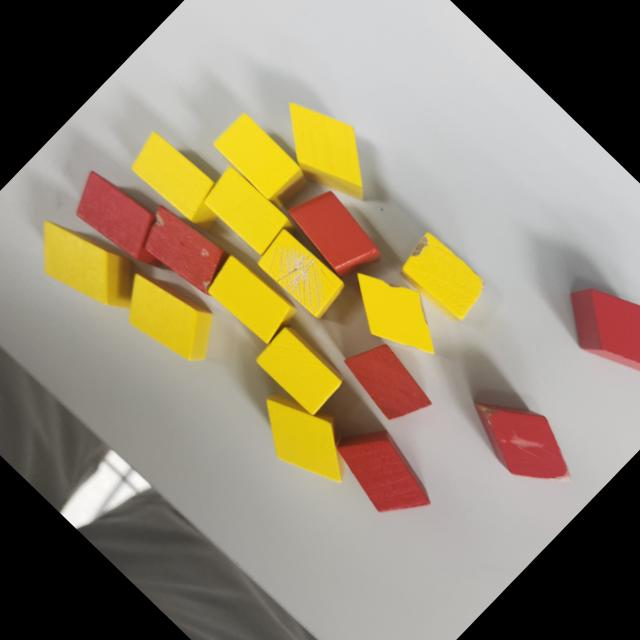broken: (456, 375, 586, 503), (332, 254, 456, 376), (547, 258, 640, 407), (125, 196, 236, 307), (250, 224, 350, 324), (394, 231, 492, 327)
red: (322, 412, 446, 536), (62, 160, 185, 282), (280, 180, 390, 288), (335, 332, 440, 436)
yellow: (18, 201, 154, 335), (260, 84, 394, 216), (242, 380, 368, 504), (106, 255, 230, 378), (122, 126, 238, 240), (197, 246, 303, 352), (208, 109, 310, 210), (197, 162, 296, 260), (252, 324, 346, 418)
